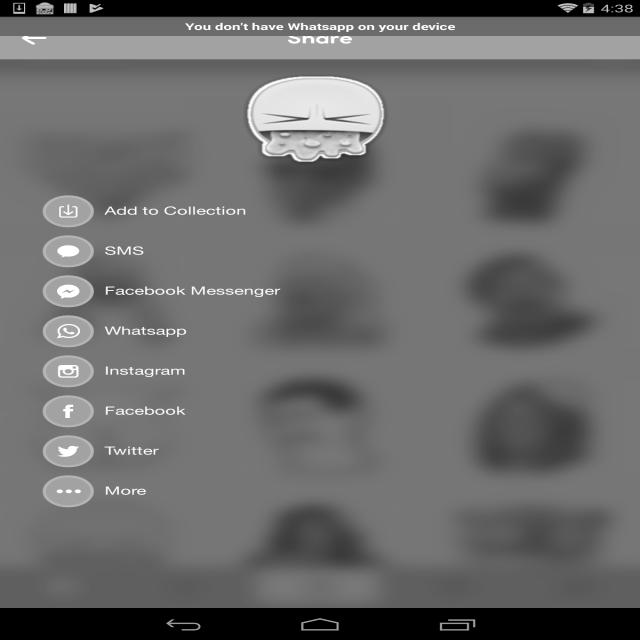EditText: (17, 17, 589, 59)
ImageButton: (0, 19, 60, 57), (589, 17, 640, 59)
ImageView: (213, 99, 427, 228), (213, 228, 427, 357), (426, 356, 640, 485), (213, 485, 427, 614), (0, 356, 213, 485), (426, 99, 640, 227), (426, 228, 640, 356), (213, 357, 427, 485), (426, 485, 640, 613), (0, 99, 213, 227), (0, 228, 213, 356), (0, 485, 213, 613), (10, 94, 216, 224), (216, 94, 422, 224), (422, 94, 628, 224), (10, 259, 216, 389), (216, 259, 422, 389), (422, 259, 628, 389), (10, 425, 216, 554), (216, 425, 422, 554), (422, 425, 628, 554), (217, 63, 423, 191), (257, 568, 382, 604), (390, 574, 516, 598), (124, 574, 249, 598), (515, 574, 640, 598), (0, 574, 124, 598), (43, 195, 94, 228), (43, 235, 94, 268), (43, 276, 94, 308), (43, 316, 94, 348), (43, 356, 94, 388), (43, 396, 94, 428), (43, 436, 94, 468), (43, 476, 94, 508)
TextView: (0, 60, 640, 100), (104, 191, 640, 231), (104, 231, 640, 271), (104, 271, 640, 311), (104, 311, 640, 351), (104, 351, 640, 391), (104, 391, 640, 431), (104, 431, 640, 471), (104, 471, 640, 511), (11, 62, 629, 86), (10, 220, 216, 252), (216, 220, 422, 252), (422, 220, 628, 252), (10, 386, 216, 418), (216, 386, 422, 418), (422, 386, 628, 418), (10, 550, 216, 582), (216, 550, 422, 582), (422, 550, 628, 582), (287, 29, 353, 47)
